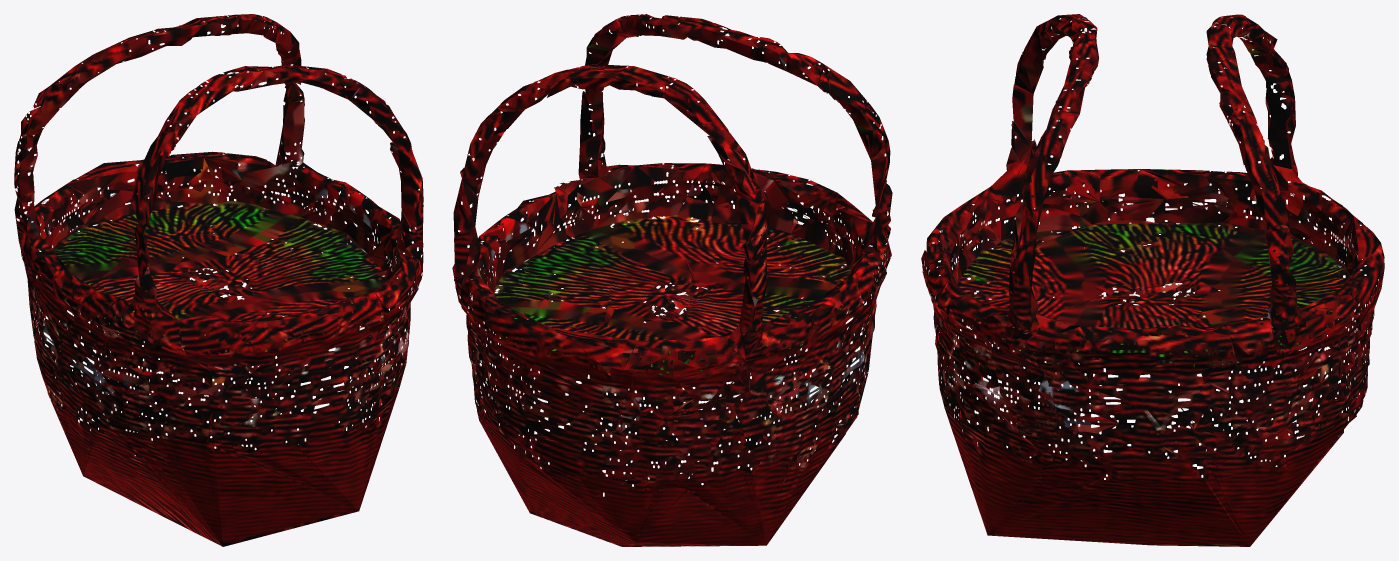
Rendered from HerbBasket.glb.
The picture shows the model from 3 angles, left to right: view 1: azimuth 30°, elevation 25°; view 2: azimuth 150°, elevation 25°; view 3: azimuth 270°, elevation 25°; orthographic projection. The views are drawn at different scales.
Visible parts, largest first — view 1: temp_mesh.ply; view 2: temp_mesh.ply; view 3: temp_mesh.ply.
Part boxes in pixels (bbox=[...]): temp_mesh.ply: bbox=[14, 14, 423, 546]; temp_mesh.ply: bbox=[452, 14, 892, 546]; temp_mesh.ply: bbox=[921, 14, 1384, 546].
Size of the model in its own units: 0.2639 by 0.35 by 0.3036.
Materials: 1 (1 with a texture image).
